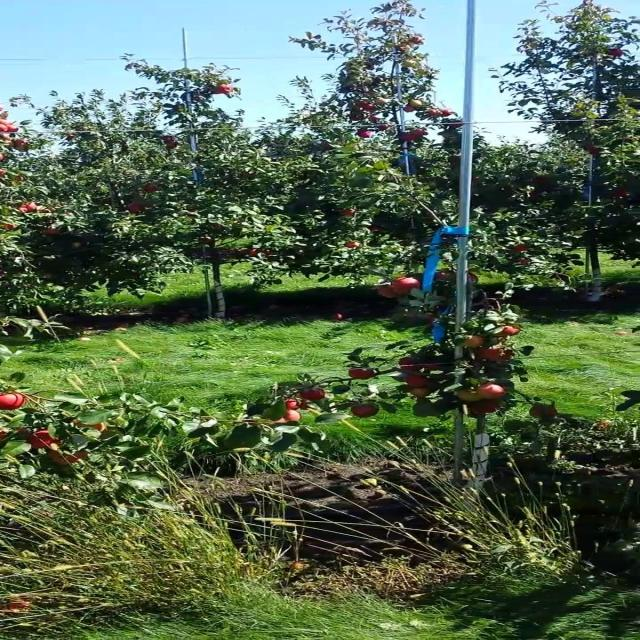apple: (28, 432, 62, 449), (49, 452, 91, 465), (476, 384, 507, 400), (70, 420, 107, 432), (6, 392, 28, 411), (483, 348, 512, 362), (468, 404, 500, 416), (269, 412, 300, 424), (376, 284, 400, 299), (298, 388, 327, 400), (348, 368, 377, 380), (397, 280, 421, 293), (404, 376, 428, 388), (276, 412, 300, 424), (397, 360, 420, 372), (355, 408, 377, 419), (77, 424, 107, 432), (461, 392, 482, 403), (532, 408, 556, 417), (468, 336, 485, 348), (412, 388, 432, 397), (291, 400, 311, 409), (284, 400, 304, 409), (504, 328, 519, 336), (426, 364, 441, 372), (504, 328, 519, 335), (440, 272, 450, 280), (468, 272, 476, 281), (497, 332, 510, 337)
